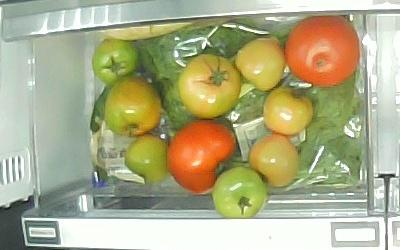tomato: (284, 16, 360, 87), (168, 119, 236, 193), (179, 54, 240, 119), (105, 77, 161, 137), (235, 38, 286, 91), (213, 167, 265, 218), (249, 134, 299, 187), (263, 87, 313, 135), (92, 38, 138, 85), (125, 135, 170, 183)
